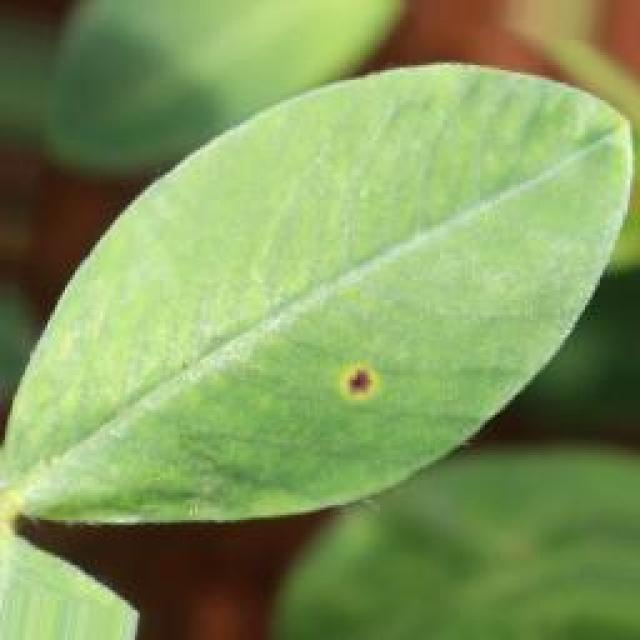Sigatoka: (275, 344, 416, 458)
